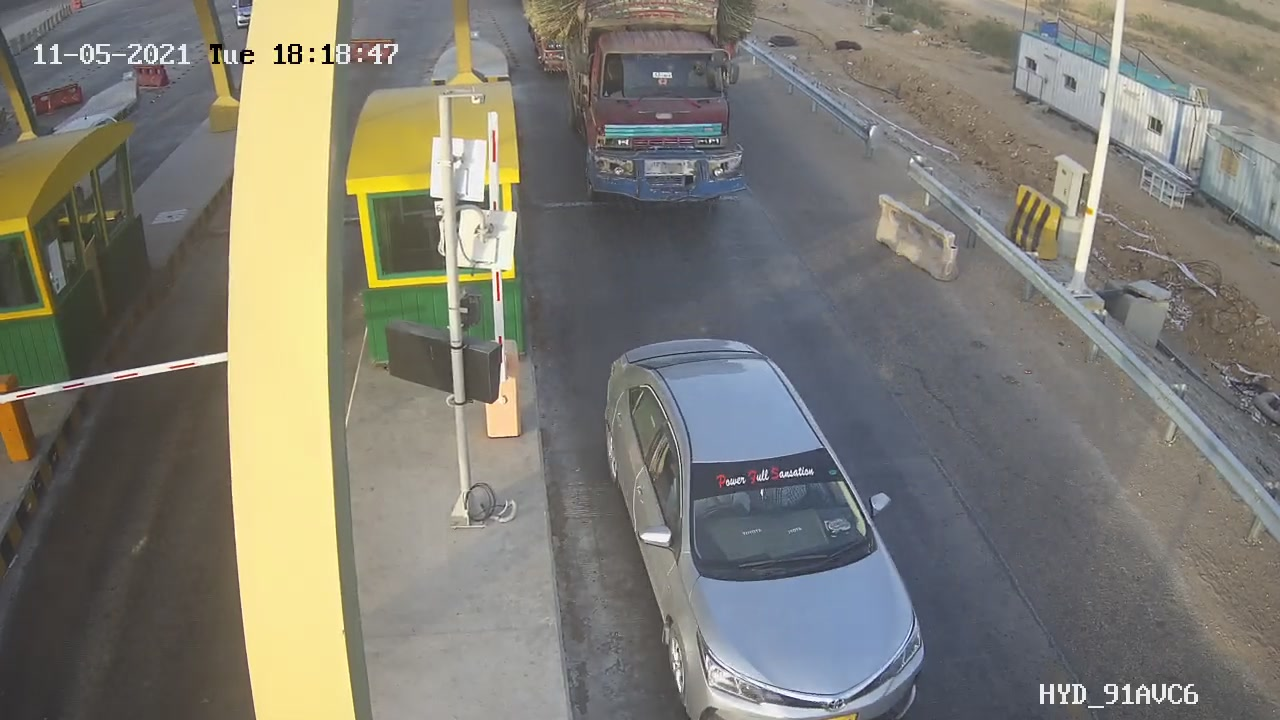F5: (558, 9, 764, 216)
